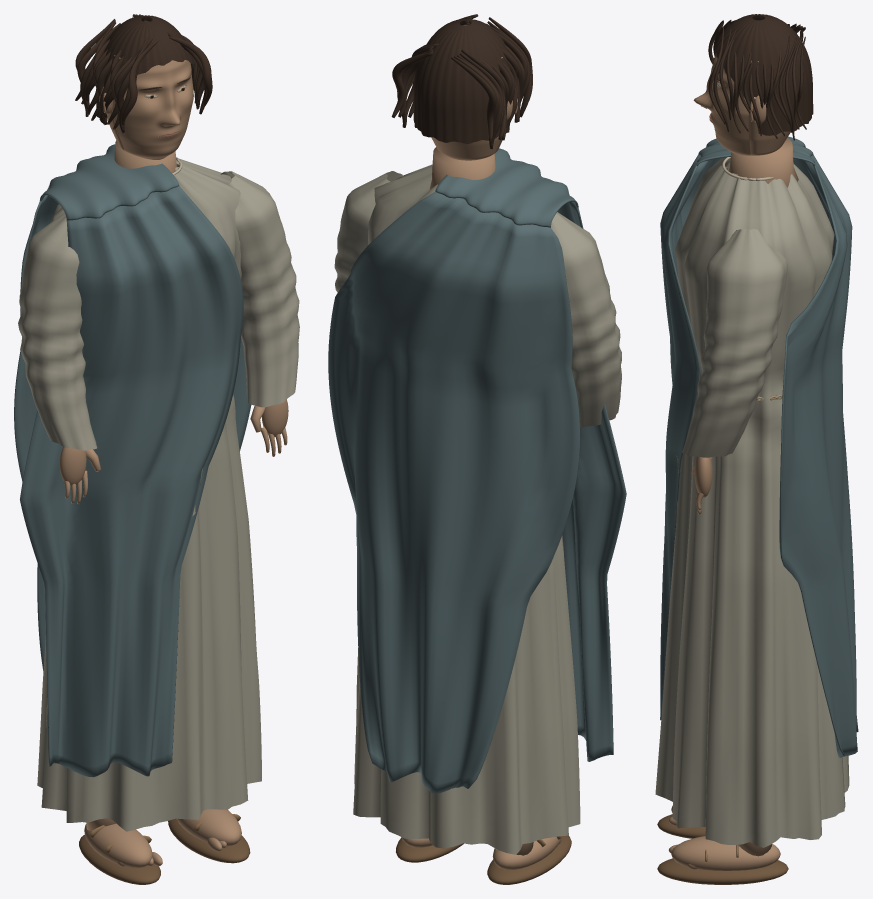
Rendered from SM_Traveler.fbx.
3 views of the same model, side by side, from view 1: azimuth 30°, elevation 25°; view 2: azimuth 150°, elevation 25°; view 3: azimuth 270°, elevation 25° (orthographic). The views are drawn at different scales.
Visible parts, largest first — view 1: SM_Traveler; view 2: SM_Traveler; view 3: SM_Traveler.
Part boxes in pixels (left/top/right/bottom): SM_Traveler: left=14, top=14, right=299, bottom=884; SM_Traveler: left=328, top=14, right=626, bottom=884; SM_Traveler: left=655, top=14, right=858, bottom=884.
Bounding box in the file's own units: 62.72 × 39.11 × 178.
